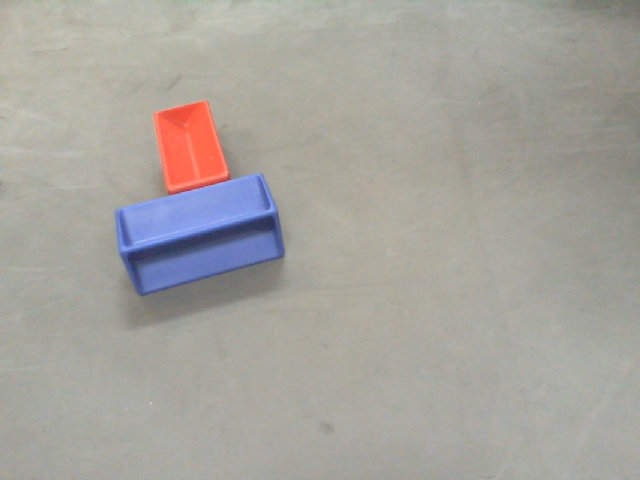BlueSample: (116, 171, 287, 295)
RedSample: (146, 91, 230, 194)
